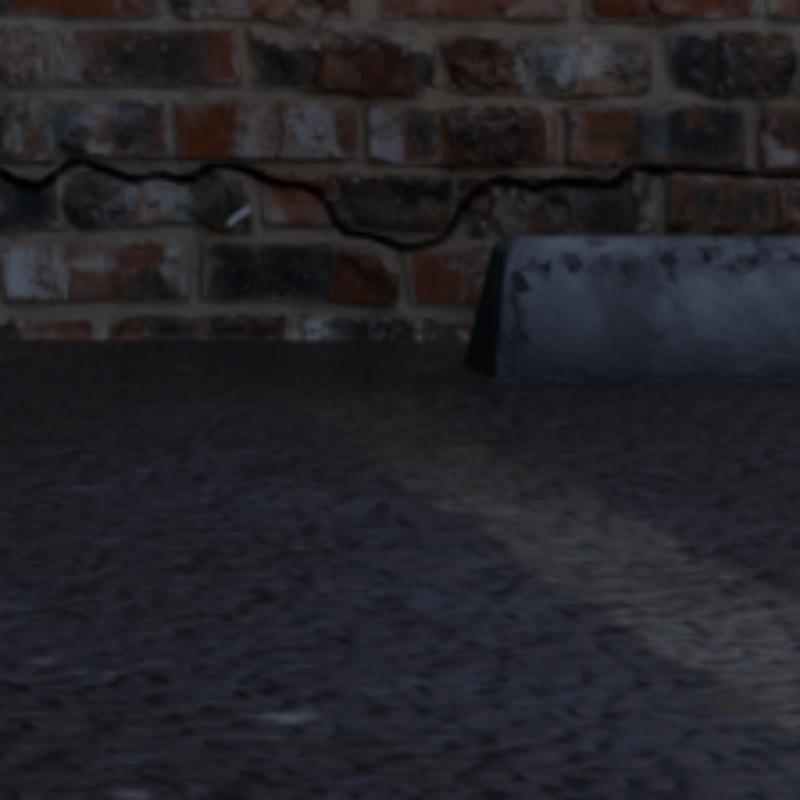pothole: (150, 164, 796, 250), (0, 157, 150, 189), (275, 107, 286, 157)
